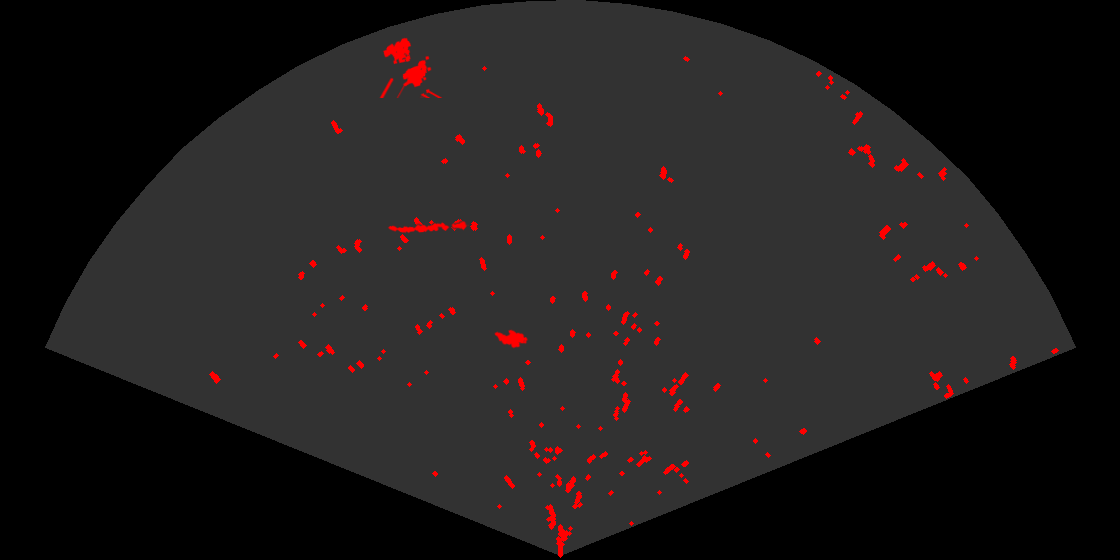AUV: (493, 328, 530, 350)
cage: (378, 36, 444, 98)
chain: (387, 220, 469, 235)
